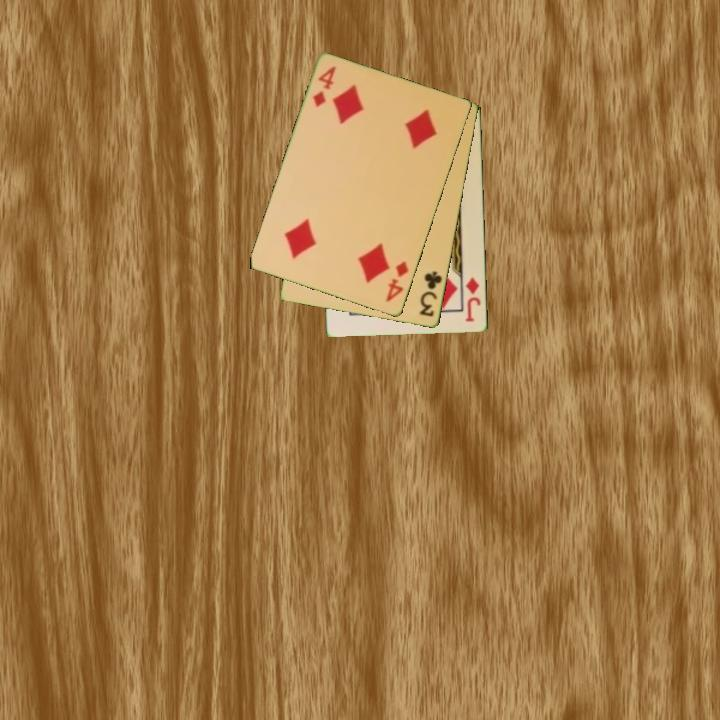3c: (416, 268, 445, 320)
4d: (309, 62, 339, 111), (382, 258, 412, 305)
Jd: (462, 274, 484, 325)
